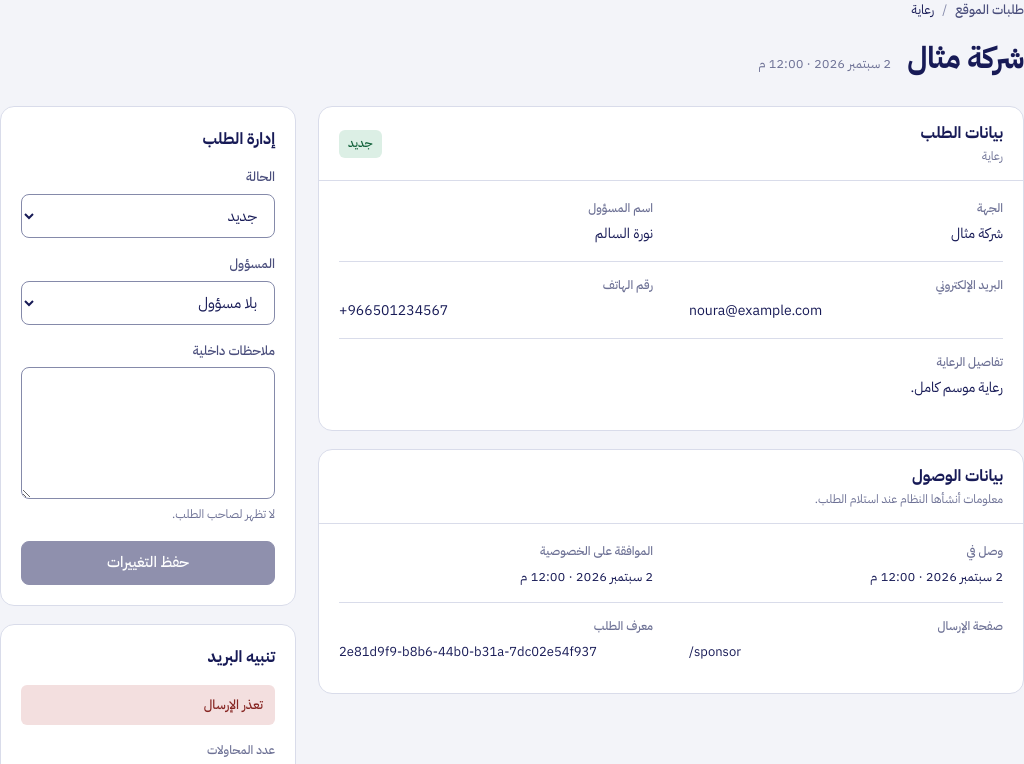
Studio form-submission inbox › saves management fields and retries a failed email notification
The width and height of the screenshot is (1024, 764).
Check: the text "رعاية موسم كامل." is shown, box [911,377,1003,398]
Select "قيد المراجعة" in the dropdown named "حالة الطلب". click: x=148, y=216
box: [21,194,275,238]
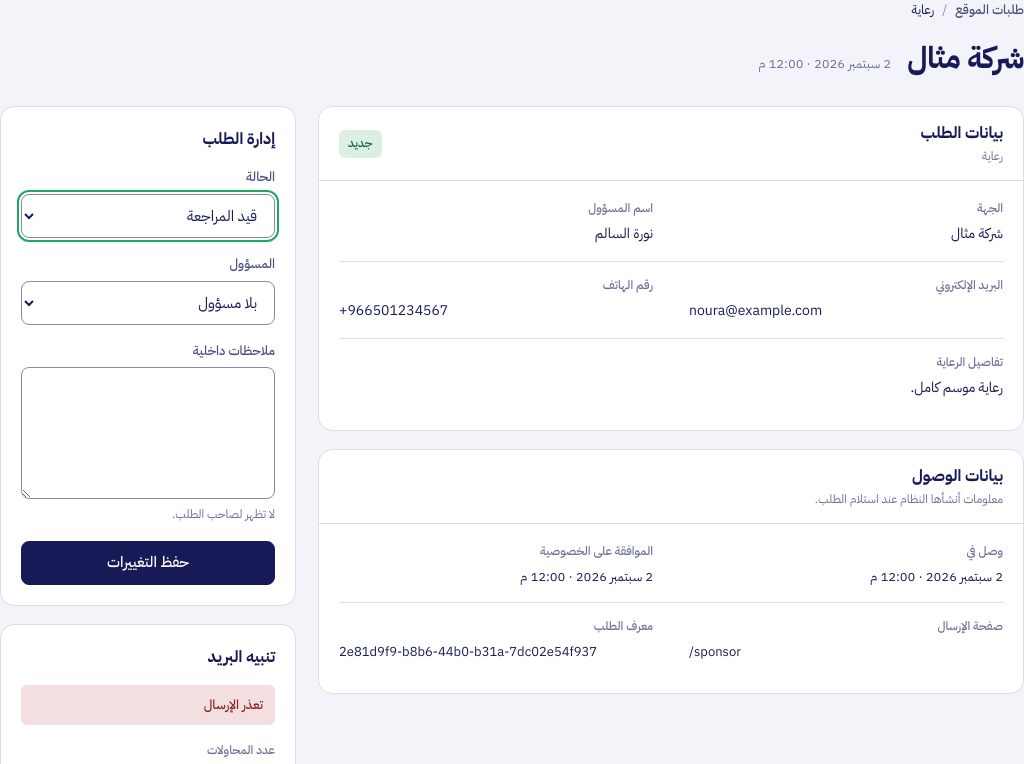
Select "إسناد إلي" in the dropdown named "مسؤول الطلب". click: x=148, y=303
box: [21,281,275,325]
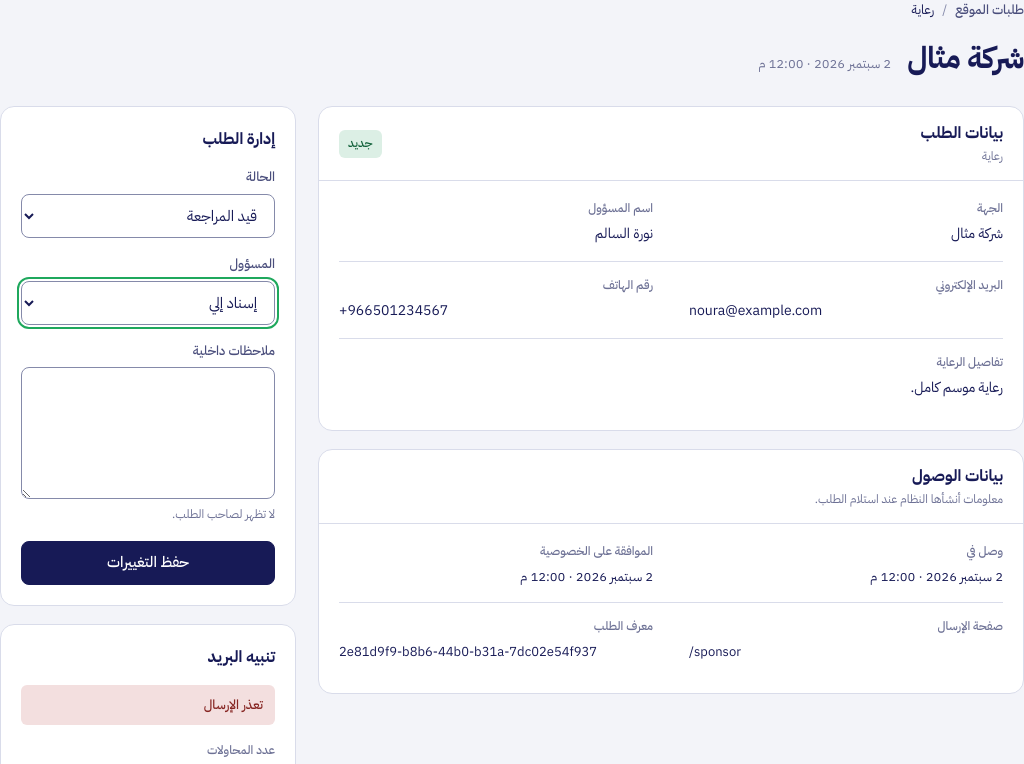
Type "تواصل غدا." into the text box labelled "ملاحظات داخلية". click: x=148, y=433
box: [21,367,275,499]
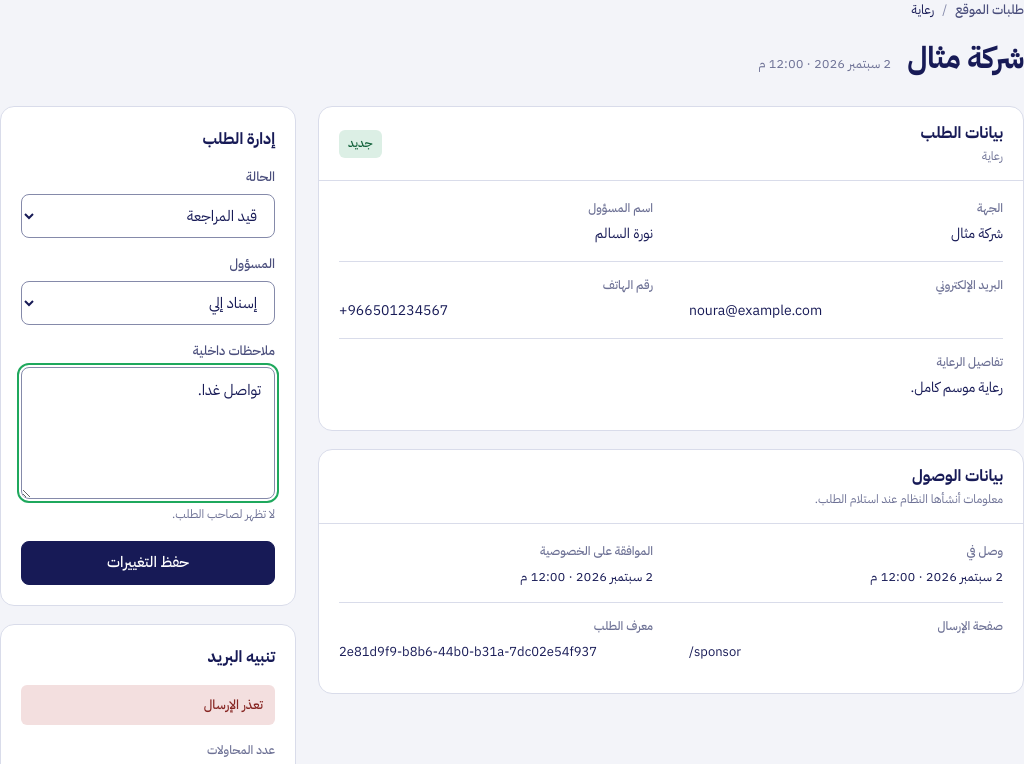
Click the button "حفظ التغييرات". click: x=148, y=563
box: [21,541,275,585]
(page scrolled)
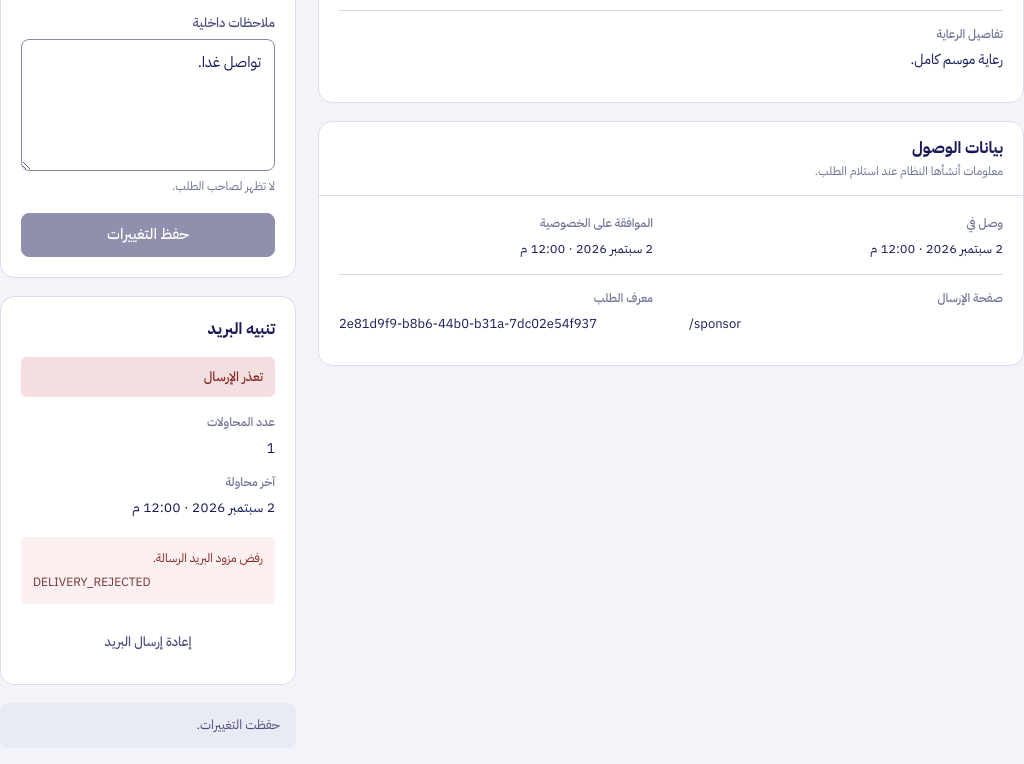
Click the button "إعادة إرسال البريد". click: x=148, y=642
box: [21,620,275,664]
(page scrolled)
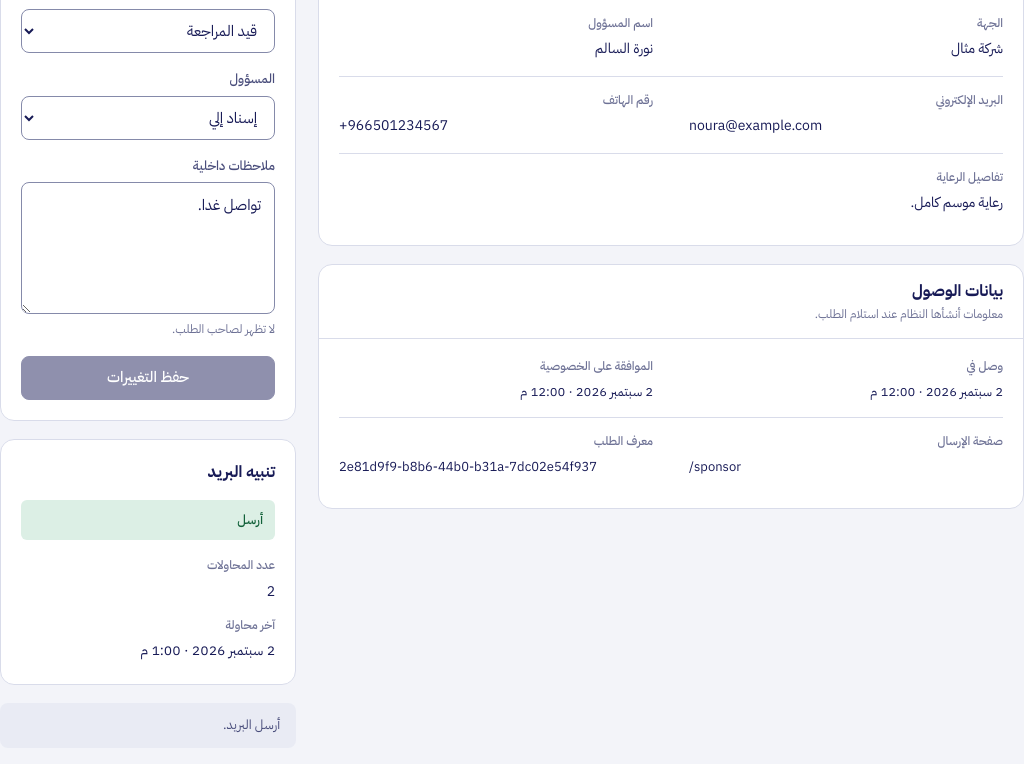
Check: the text "أرسل" is shown, box [21,500,275,540]
Check: the button "إعادة إرسال البريد" is gone
